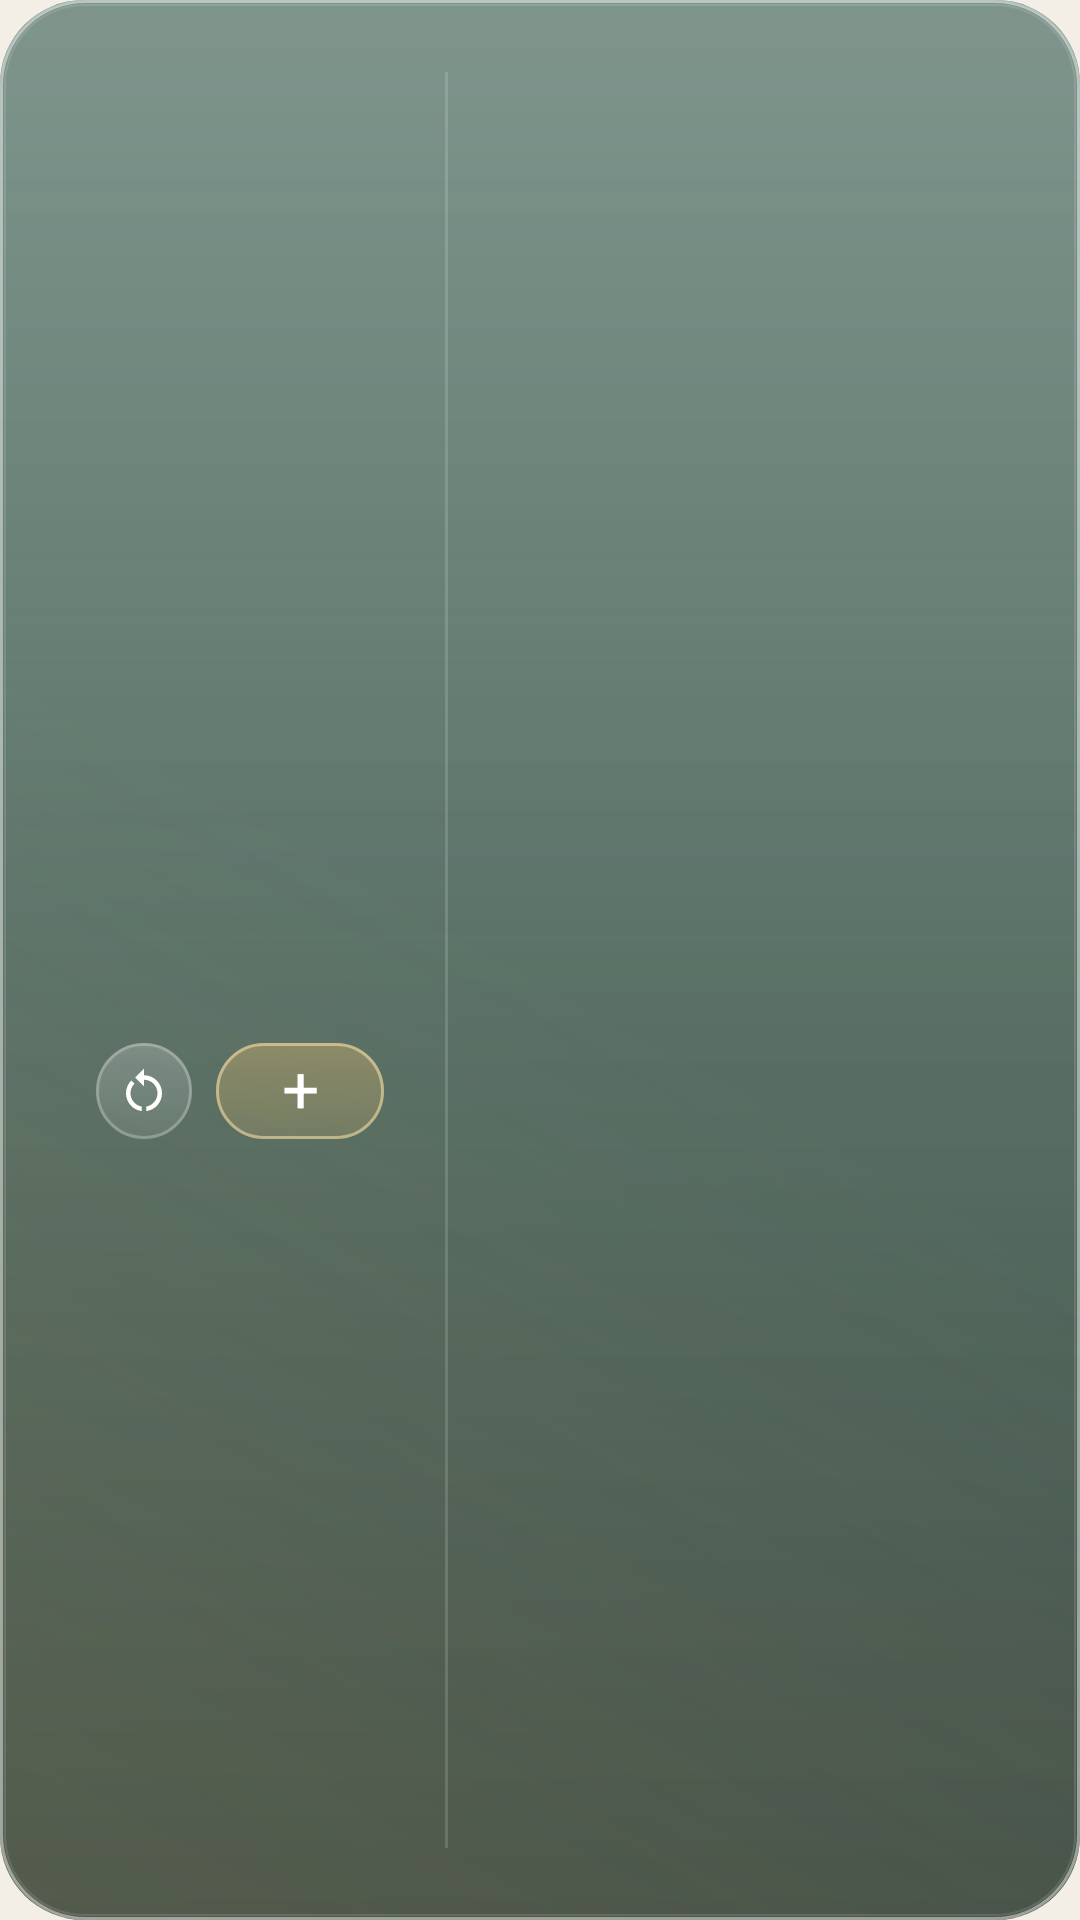

Icon click points for this 1080px x 1920px phone screenshot, format (x,y):
Reset: (144,1091)
